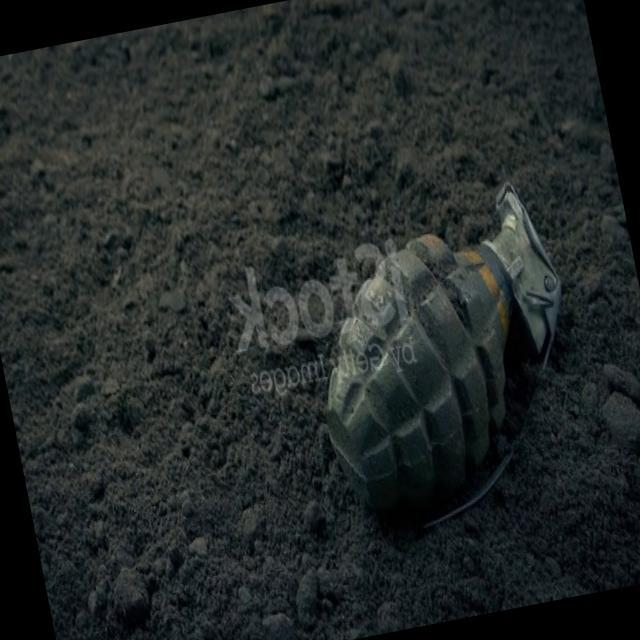grenade: (284, 162, 604, 552)
